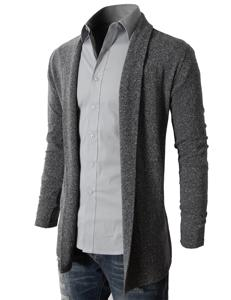C_cardigan sweater: (22, 7, 216, 280)
